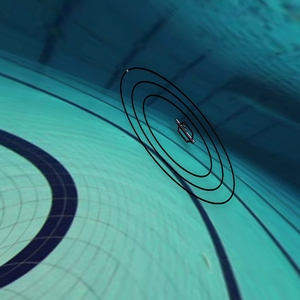circle: (103, 56, 247, 215)
submarine: (167, 111, 202, 155)
